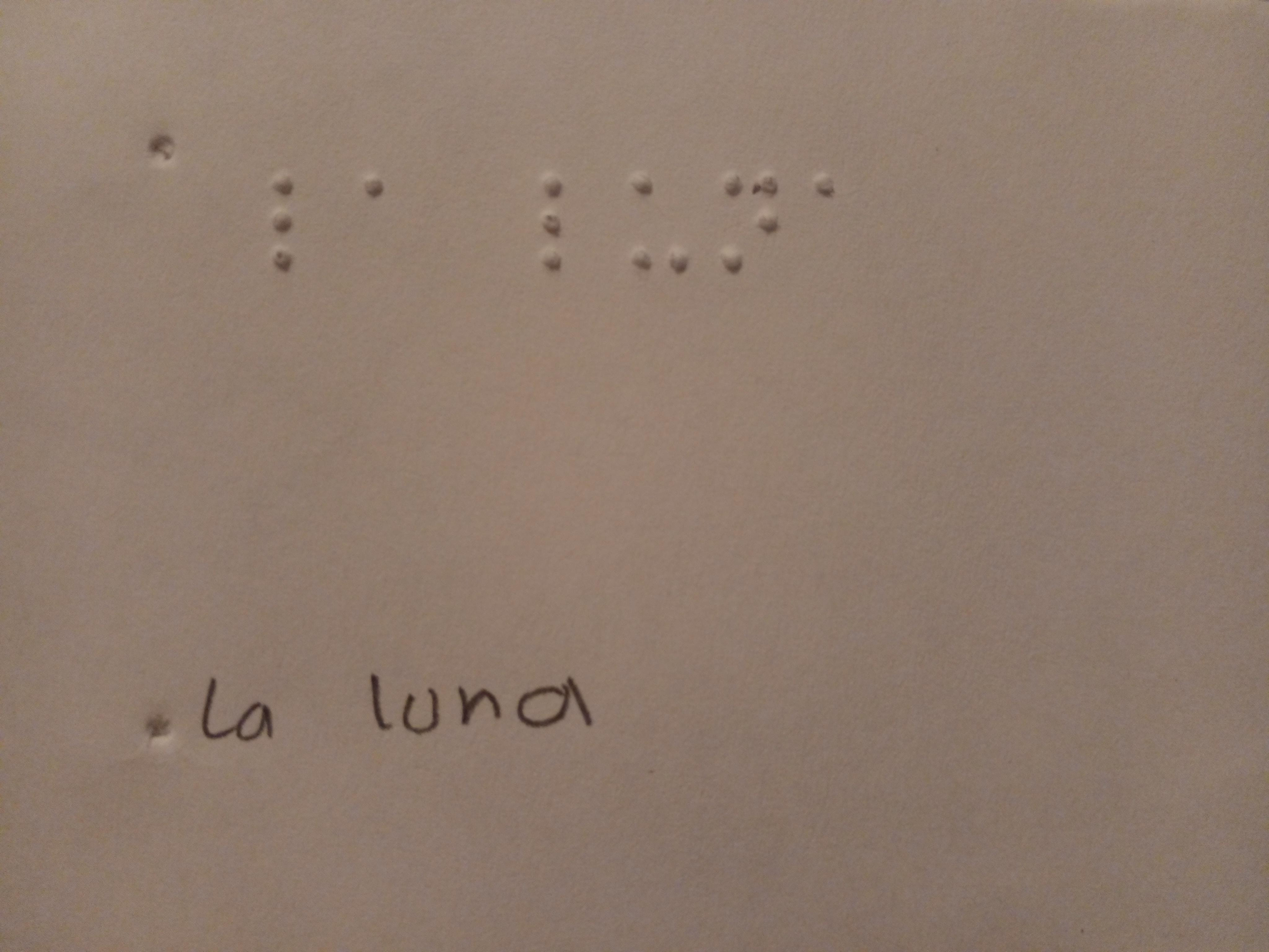a: (344, 161, 397, 231), (795, 155, 855, 214)
l: (225, 155, 318, 293), (516, 152, 587, 282)
n: (711, 163, 790, 280)
u: (613, 160, 696, 287)
